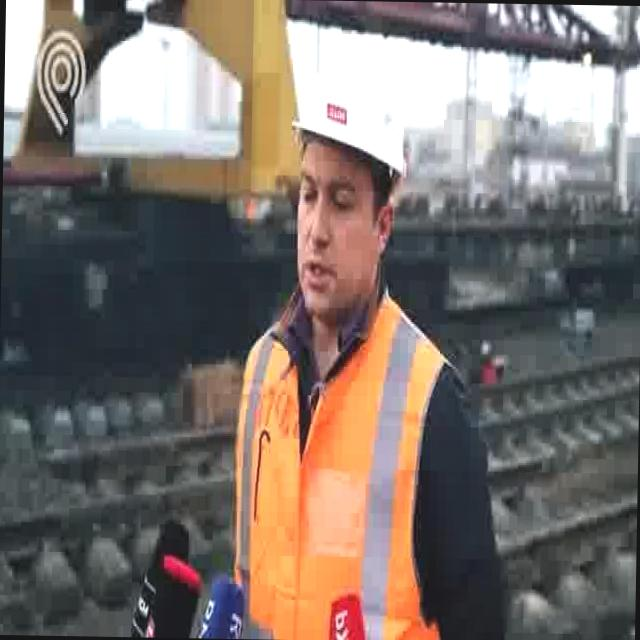vest: (229, 273, 470, 640)
